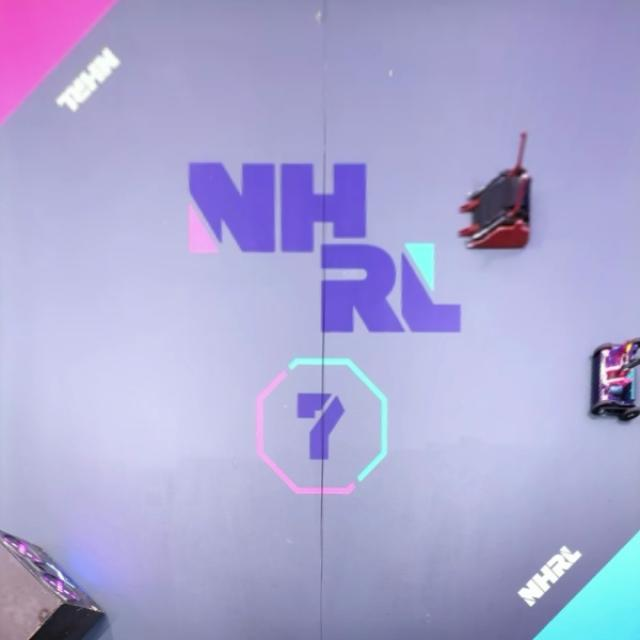housebot: (0, 528, 107, 640)
robot: (460, 130, 532, 249), (589, 338, 640, 424)
